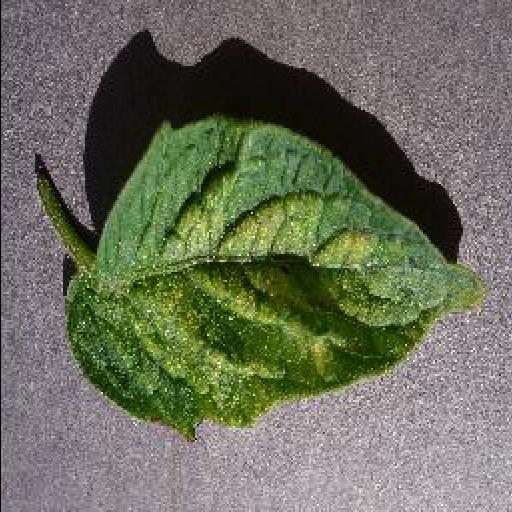disease_tomato: (60, 110, 476, 434)
